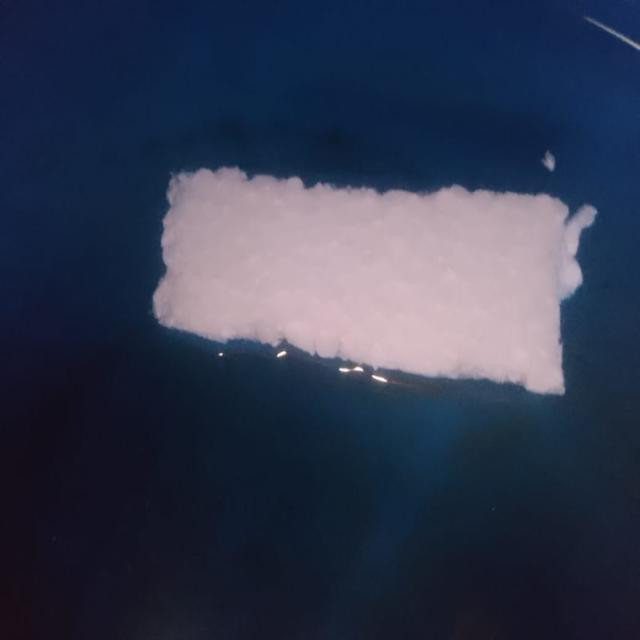litter: (140, 134, 601, 410)
